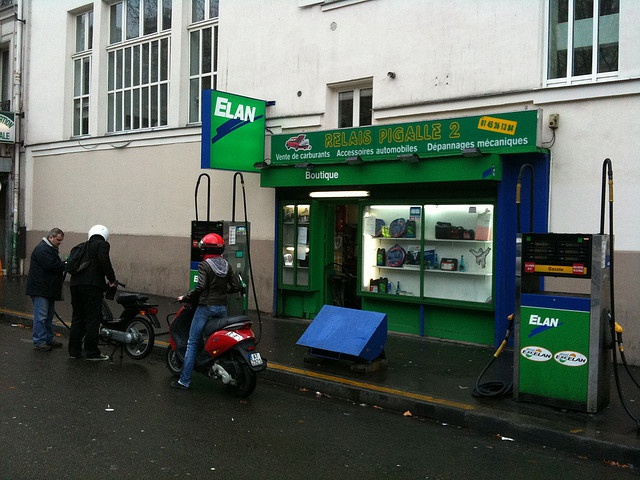non-vehicle: (164, 297, 267, 397), (96, 281, 162, 360)
